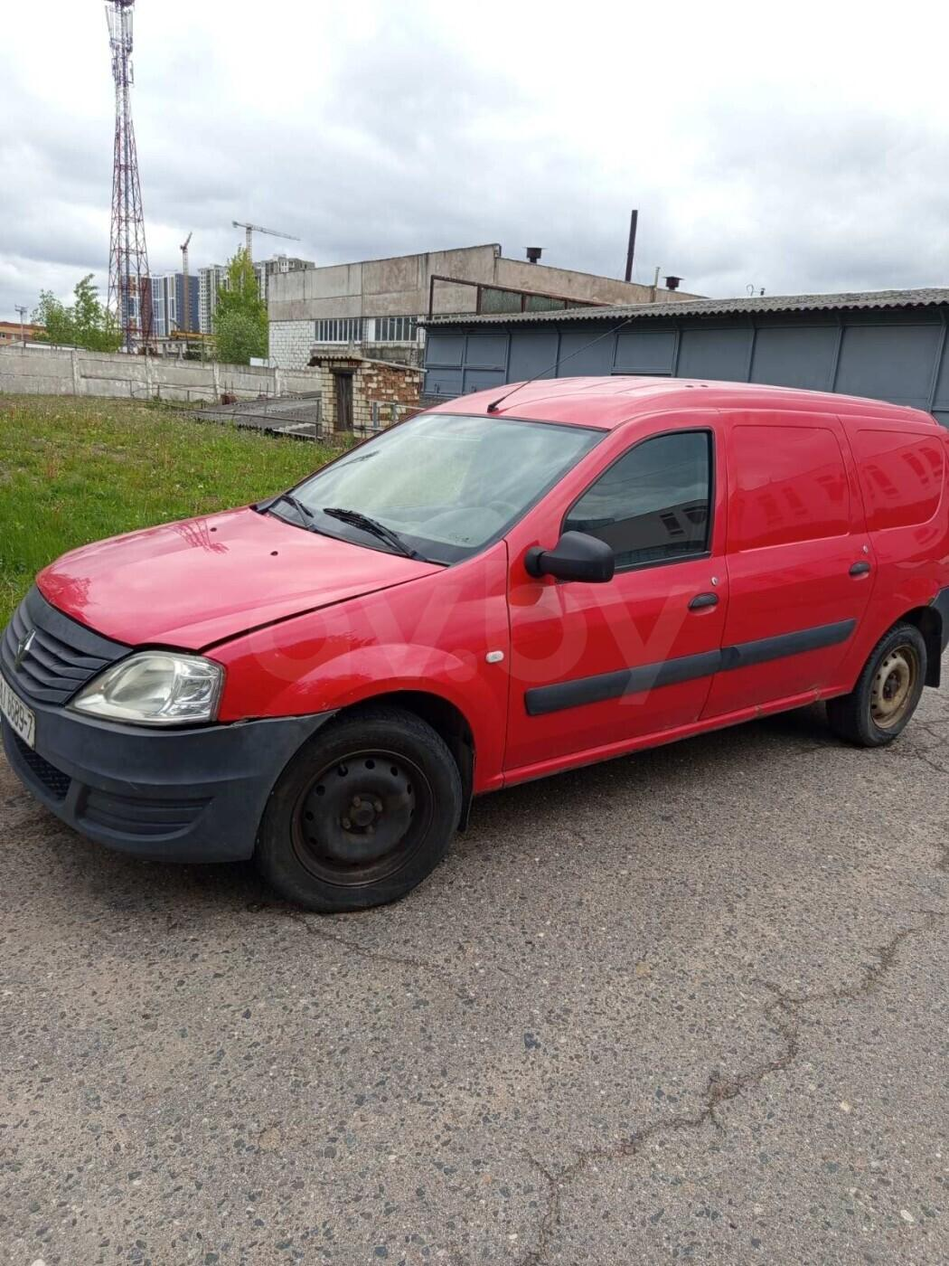Logan_2008-2015: (9, 367, 949, 919)
